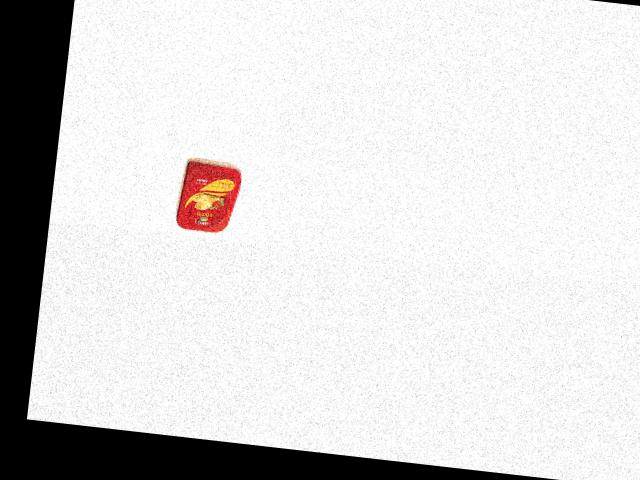cheese: (172, 156, 243, 239)
